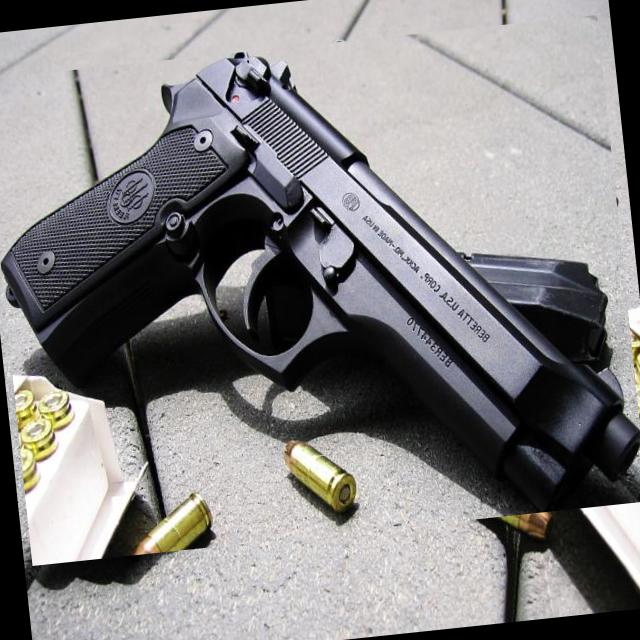Gun: (2, 52, 640, 512)
